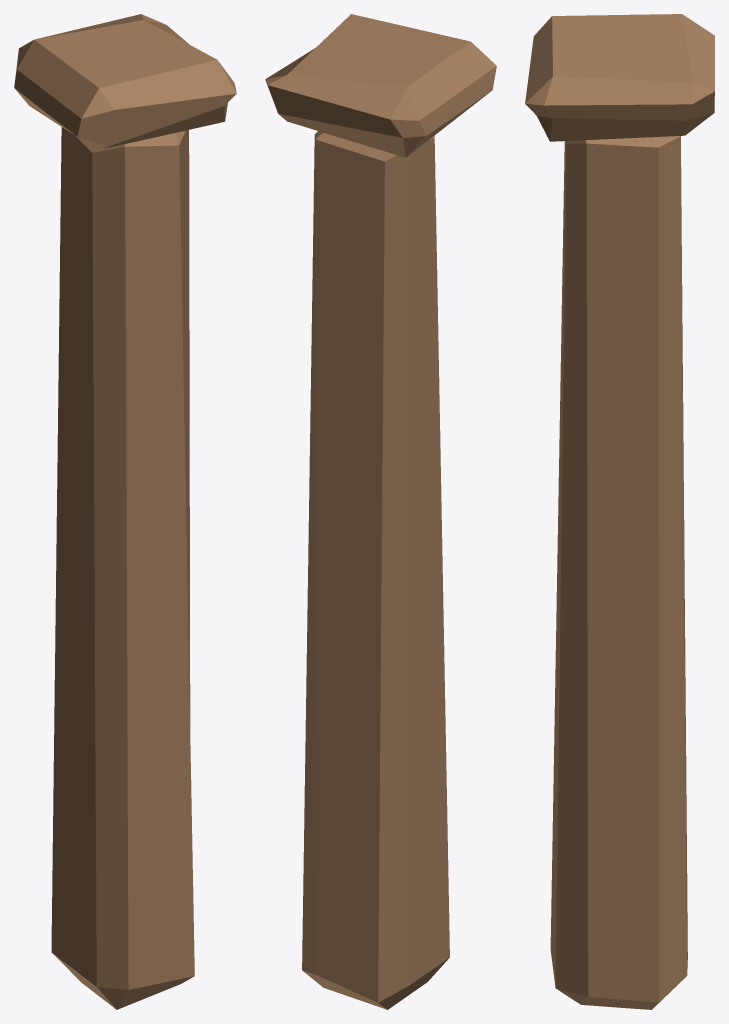
Rendered from PKX_Railing_Post.fbx.
3 renders of one model, left to right at view 1: azimuth 30°, elevation 25°; view 2: azimuth 150°, elevation 25°; view 3: azimuth 270°, elevation 25°, orthographic.
Visible parts, largest first — view 1: PKX_Railing_Post; view 2: PKX_Railing_Post; view 3: PKX_Railing_Post.
Boxes of the visible parts, x1,y1,x2,y2 form: PKX_Railing_Post: (14, 14, 236, 1009); PKX_Railing_Post: (265, 14, 496, 1009); PKX_Railing_Post: (525, 14, 714, 1009).
Bounding box in the file's own units: 14.71 × 83.47 × 15.07.
